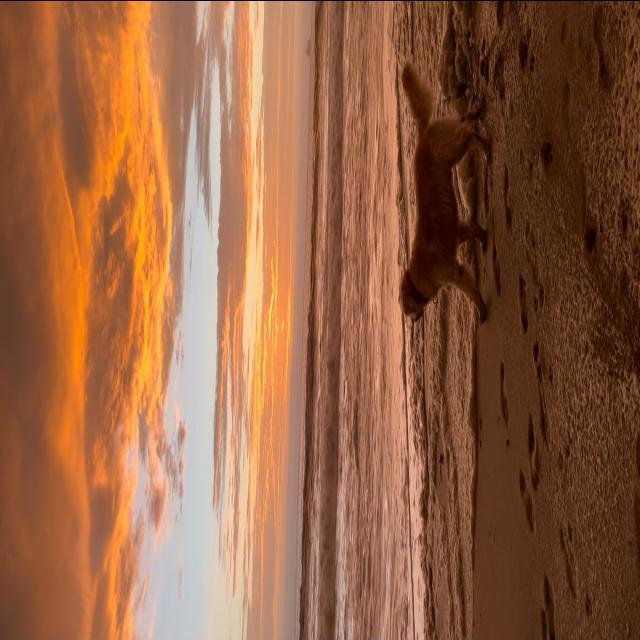Dogs: (393, 59, 499, 327)
